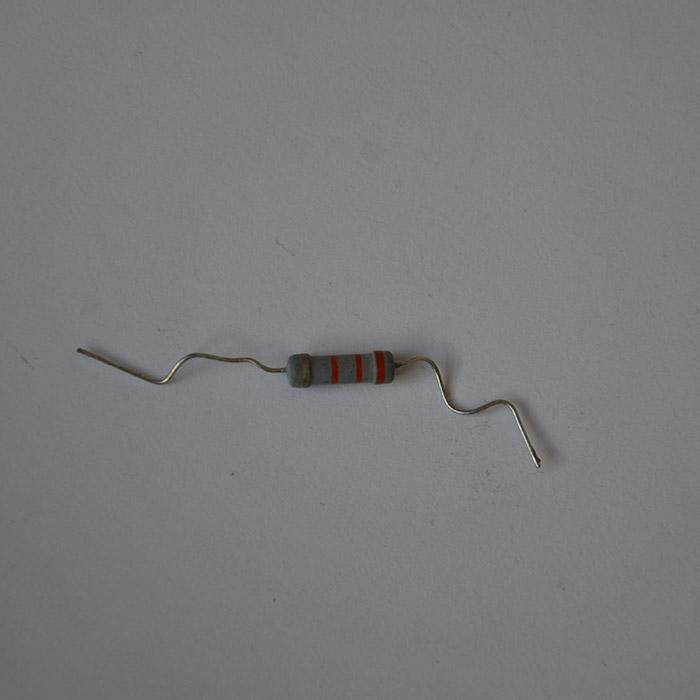resistor: (287, 350, 396, 387)
